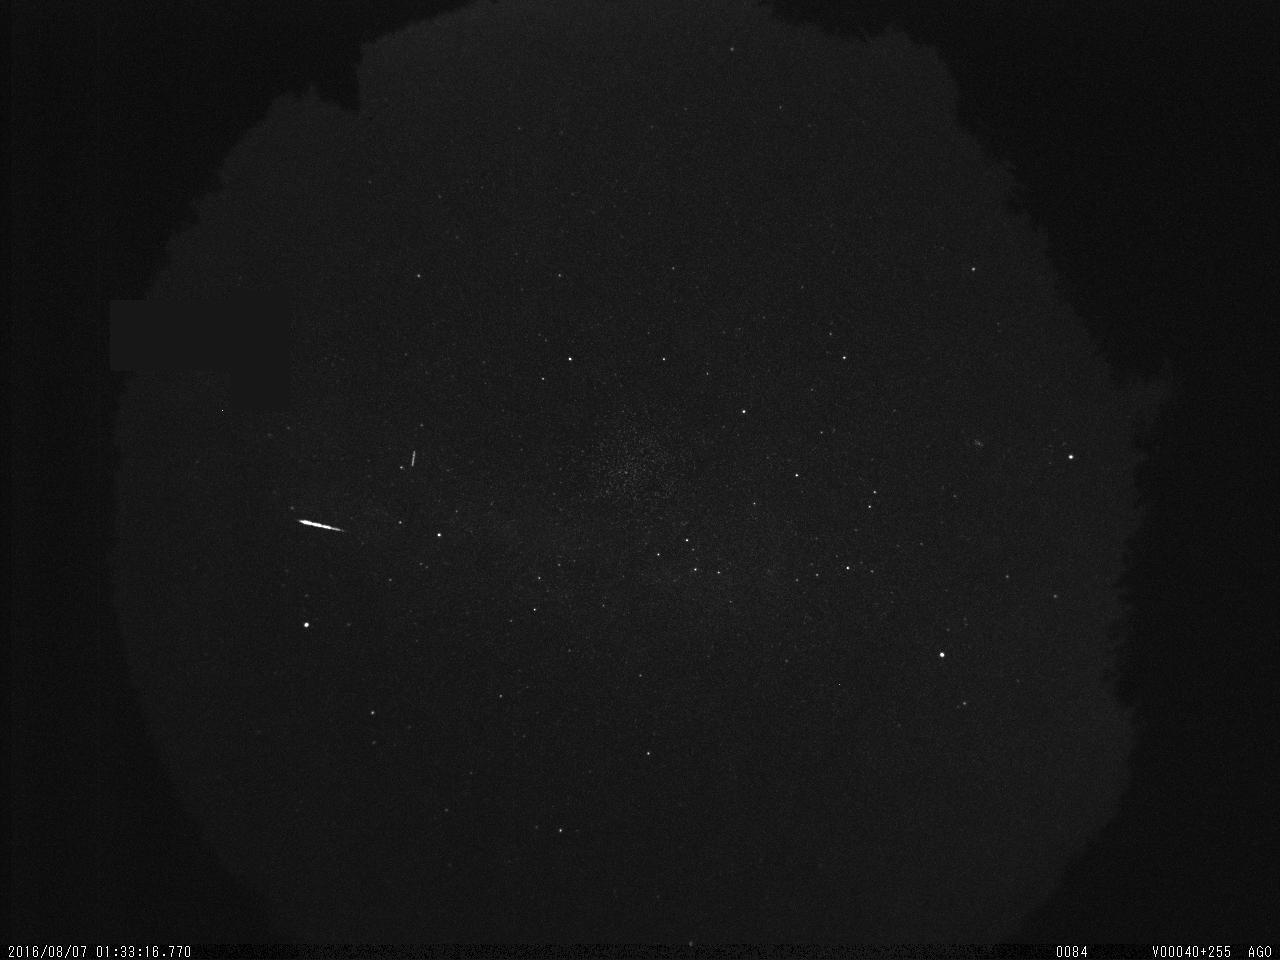meteor: (291, 509, 355, 545)
satelite: (405, 443, 423, 479)
